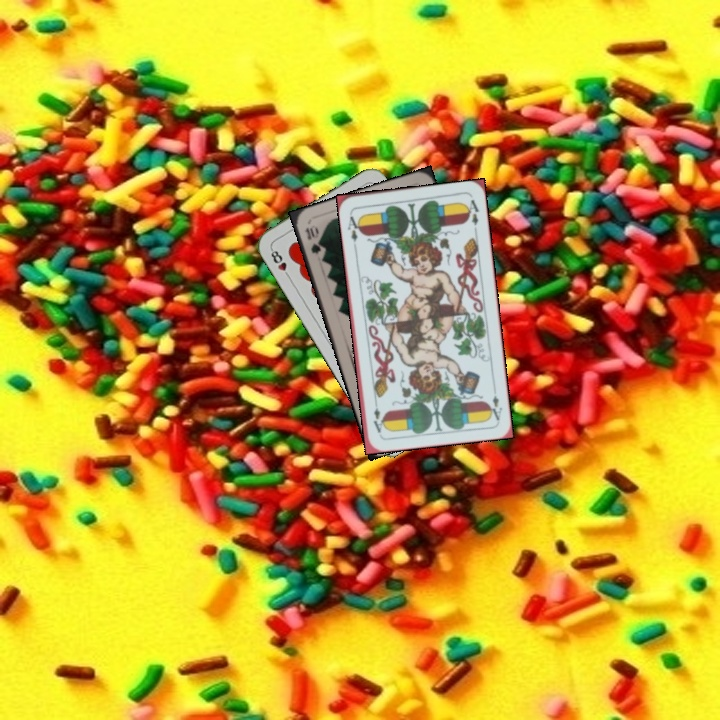EA: (485, 382, 505, 423), (344, 209, 364, 244)
G10: (301, 223, 324, 257)
H8: (267, 244, 293, 281)
